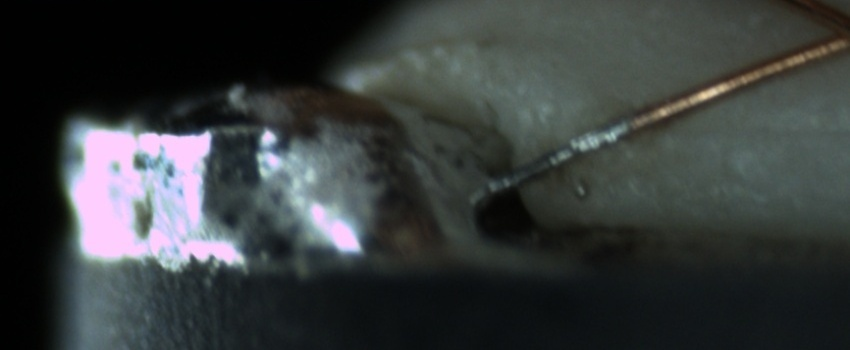CL: (798, 3, 850, 61)
DL: (671, 96, 850, 161)
TS: (483, 118, 638, 195)
